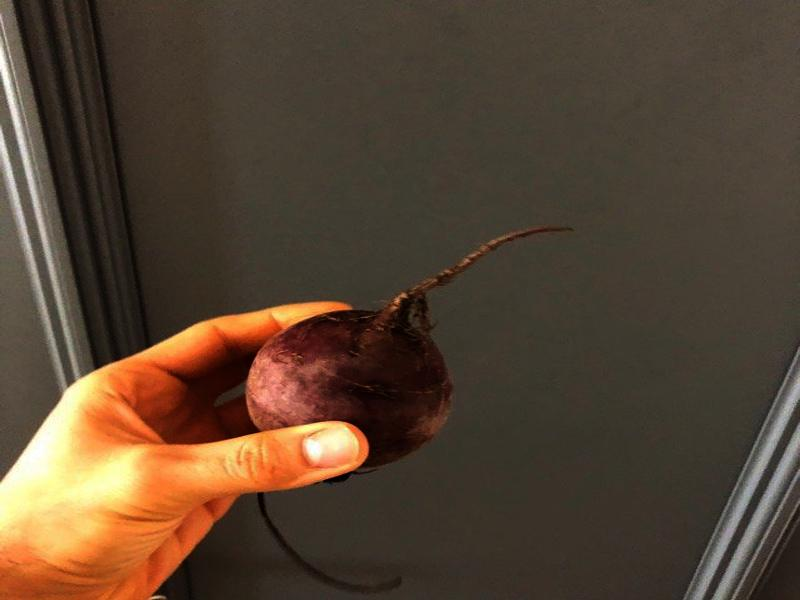Beet: (246, 227, 578, 592)
